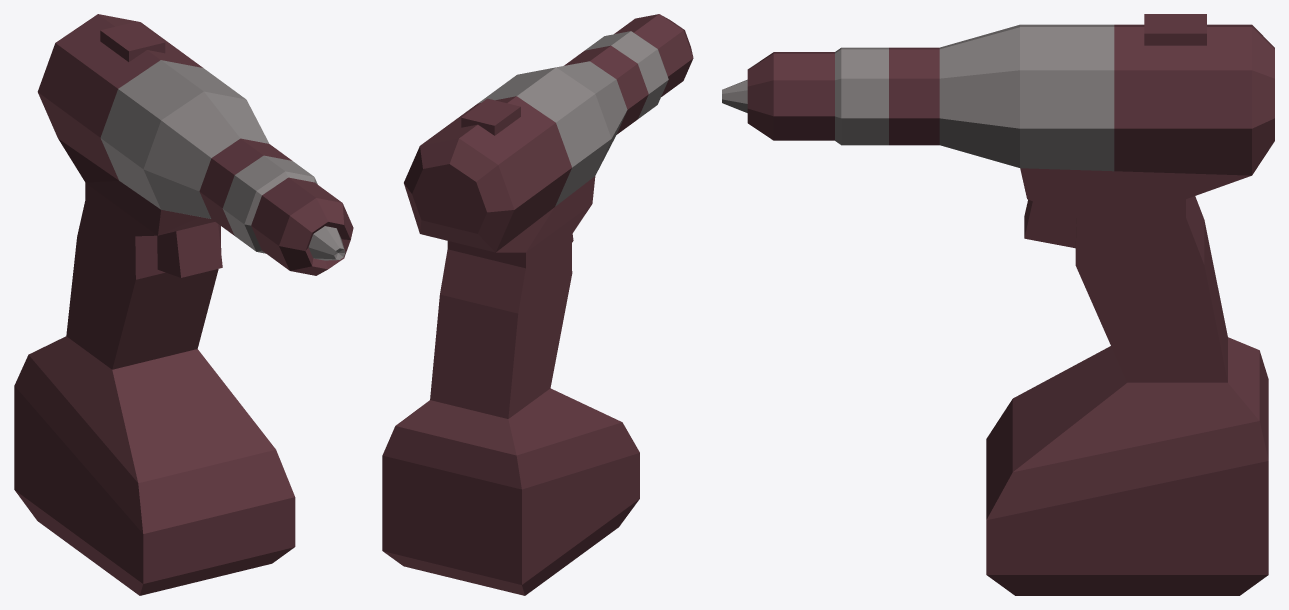
File: drill.fbx
The picture shows the model from 3 angles, left to right: view 1: azimuth 30°, elevation 25°; view 2: azimuth 150°, elevation 25°; view 3: azimuth 270°, elevation 25°; orthographic projection. The views are drawn at different scales.
Parts seen in each view (by area): view 1: drill; view 2: drill; view 3: drill.
Boxes of the visible parts, left/top/right/bottom form: drill: left=14, top=14, right=353, bottom=595; drill: left=382, top=14, right=693, bottom=595; drill: left=722, top=14, right=1274, bottom=595.
Bounding box in the file's own units: 0.083 × 0.2556 × 0.2385.
